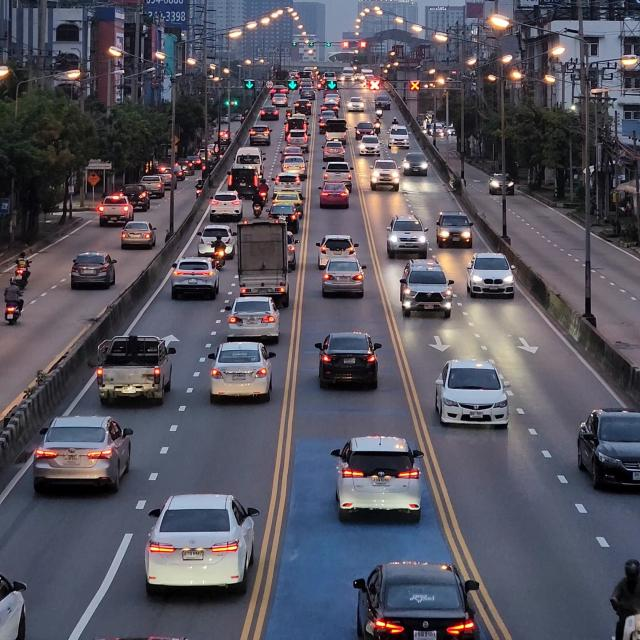Car: (142, 486, 266, 601), (352, 558, 485, 640), (328, 424, 422, 524), (33, 413, 137, 498), (99, 330, 177, 408), (578, 404, 640, 497), (432, 360, 512, 430), (236, 219, 291, 307), (315, 331, 385, 399), (206, 342, 278, 402), (399, 261, 457, 319), (465, 250, 518, 303), (223, 297, 286, 340), (170, 256, 223, 299), (383, 214, 431, 259), (322, 256, 368, 298), (433, 210, 476, 248), (74, 252, 118, 288), (121, 220, 157, 252)
